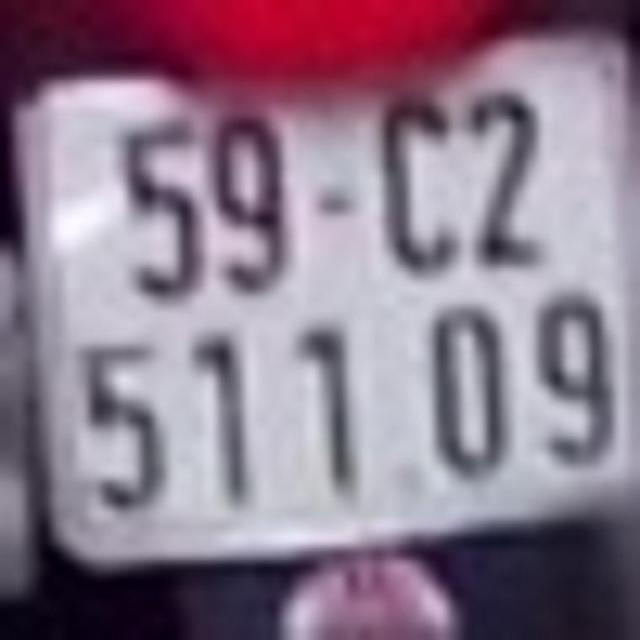0: (428, 297, 511, 482)
1: (290, 316, 363, 500), (188, 324, 258, 509)
2: (468, 88, 551, 272)
5: (72, 336, 172, 518), (116, 110, 207, 304)
9: (532, 287, 618, 472), (211, 110, 290, 298)
C: (378, 87, 460, 276)
